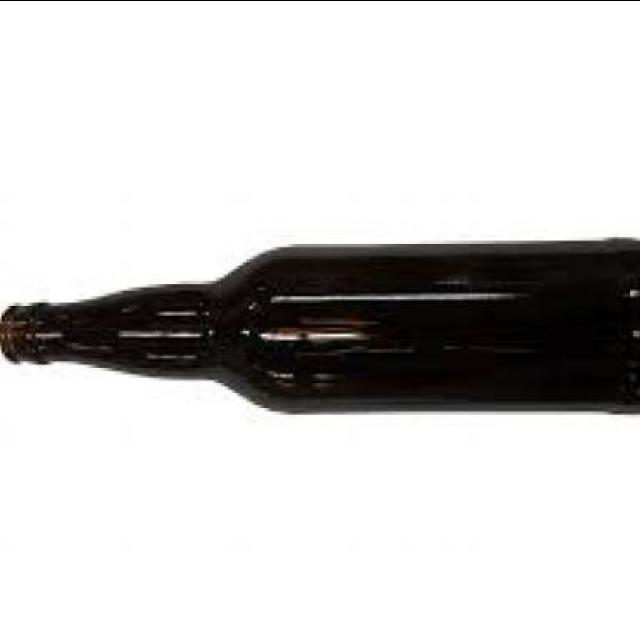kaca: (0, 236, 640, 416)
